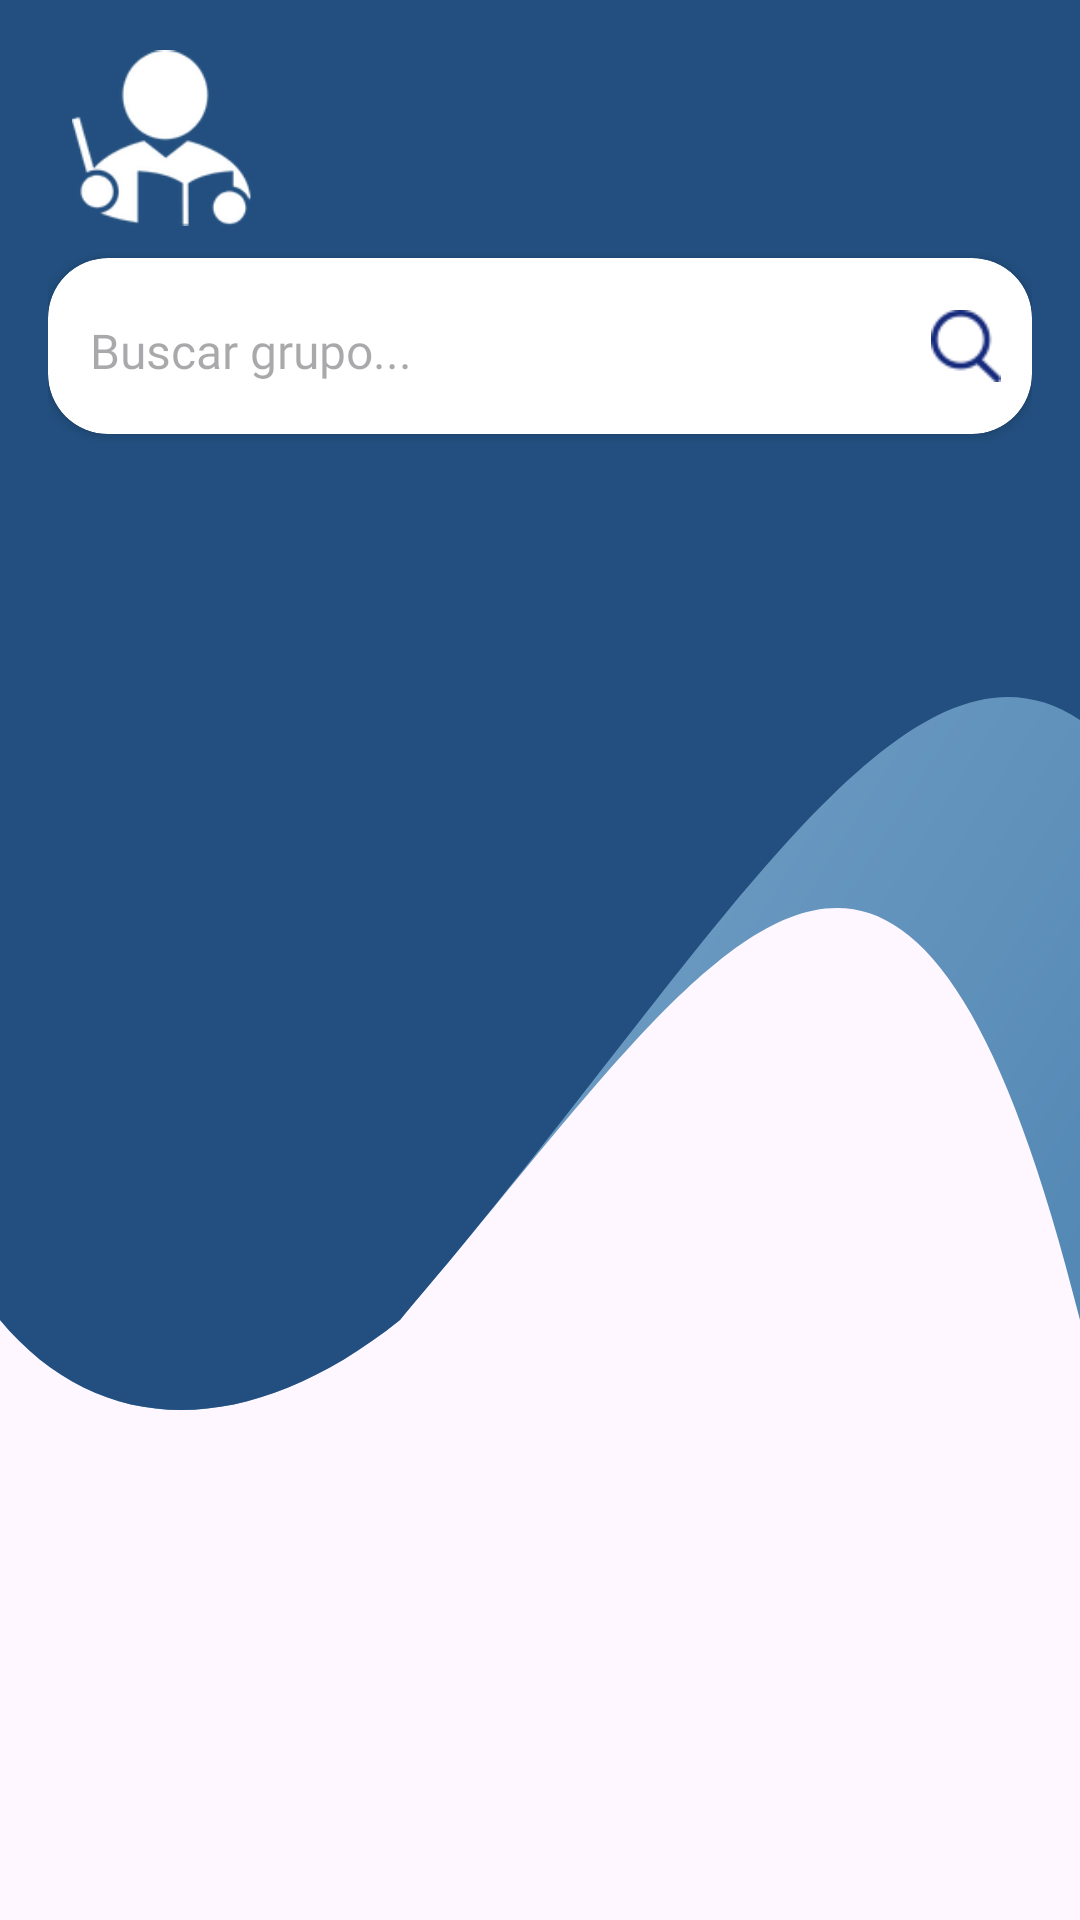

Screen size 1080×1920. Icon name, then its center in pixels as (x,y):
perfil docente: (161,138)
